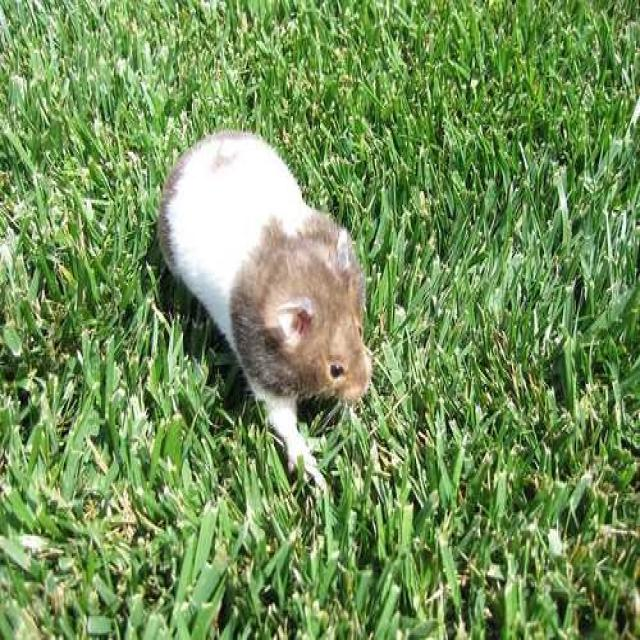guinea pig: (159, 129, 373, 479)
